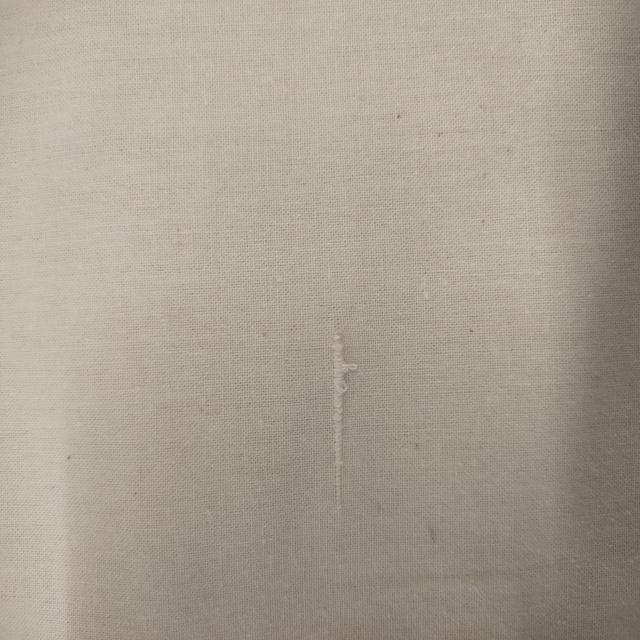stains: (298, 286, 374, 580)
